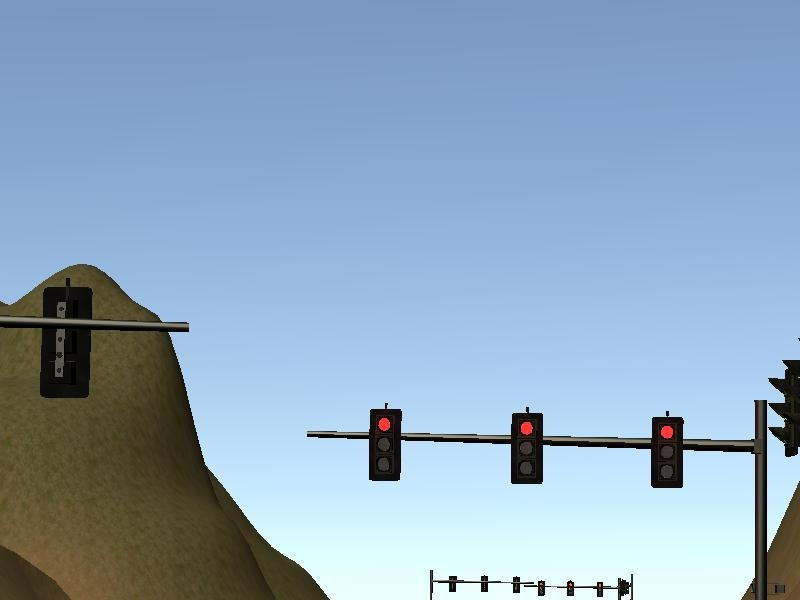red: (369, 401, 404, 484), (507, 411, 545, 485), (651, 415, 686, 489)
